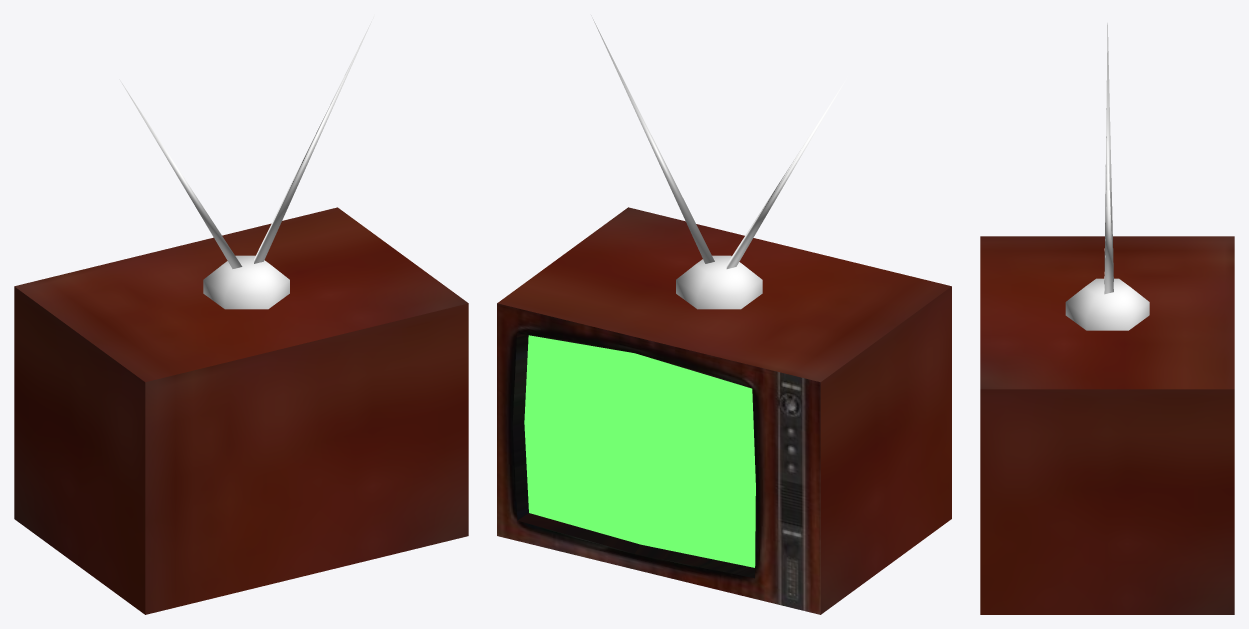
3 views of the same model, side by side, from view 1: azimuth 30°, elevation 25°; view 2: azimuth 150°, elevation 25°; view 3: azimuth 270°, elevation 25° (orthographic). The views are drawn at different scales.
Visible parts, largest first — view 1: TV_01; view 2: TV_01; view 3: TV_01.
Part boxes in pixels (x1,y1,x2,y2): TV_01: [14, 17, 468, 614]; TV_01: [497, 15, 951, 614]; TV_01: [980, 23, 1234, 614].
Size of the model in its own units: 0.8057 by 1.14 by 0.5658.
3 materials, 1 textured.
